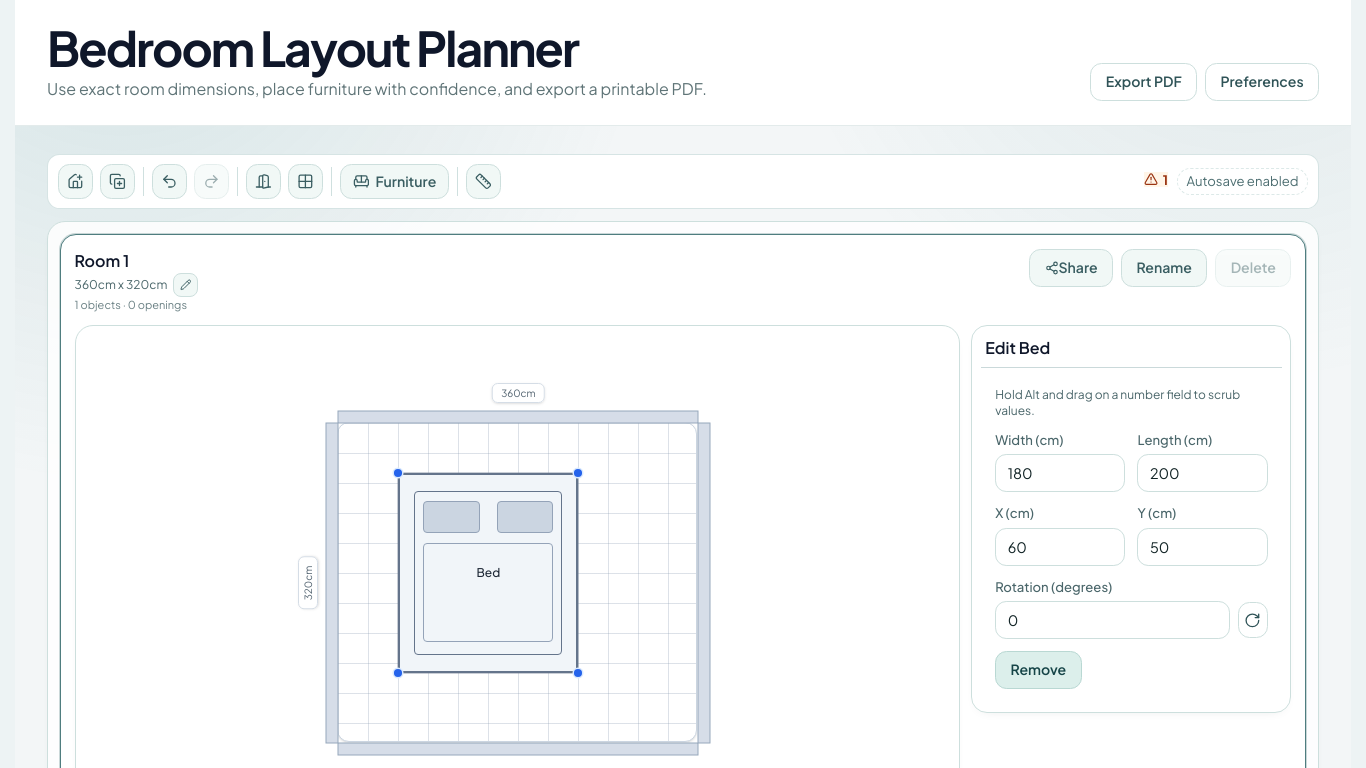
it: selection and rotate interaction › keeps edit panel open after rotating selected object
The image size is (1366, 768).
Check: the heading "Edit Bed" is shown, box [985, 336, 1050, 360]
Click the button named "Rotate 90 degrees" at [1253, 620], box [1238, 603, 1268, 638]
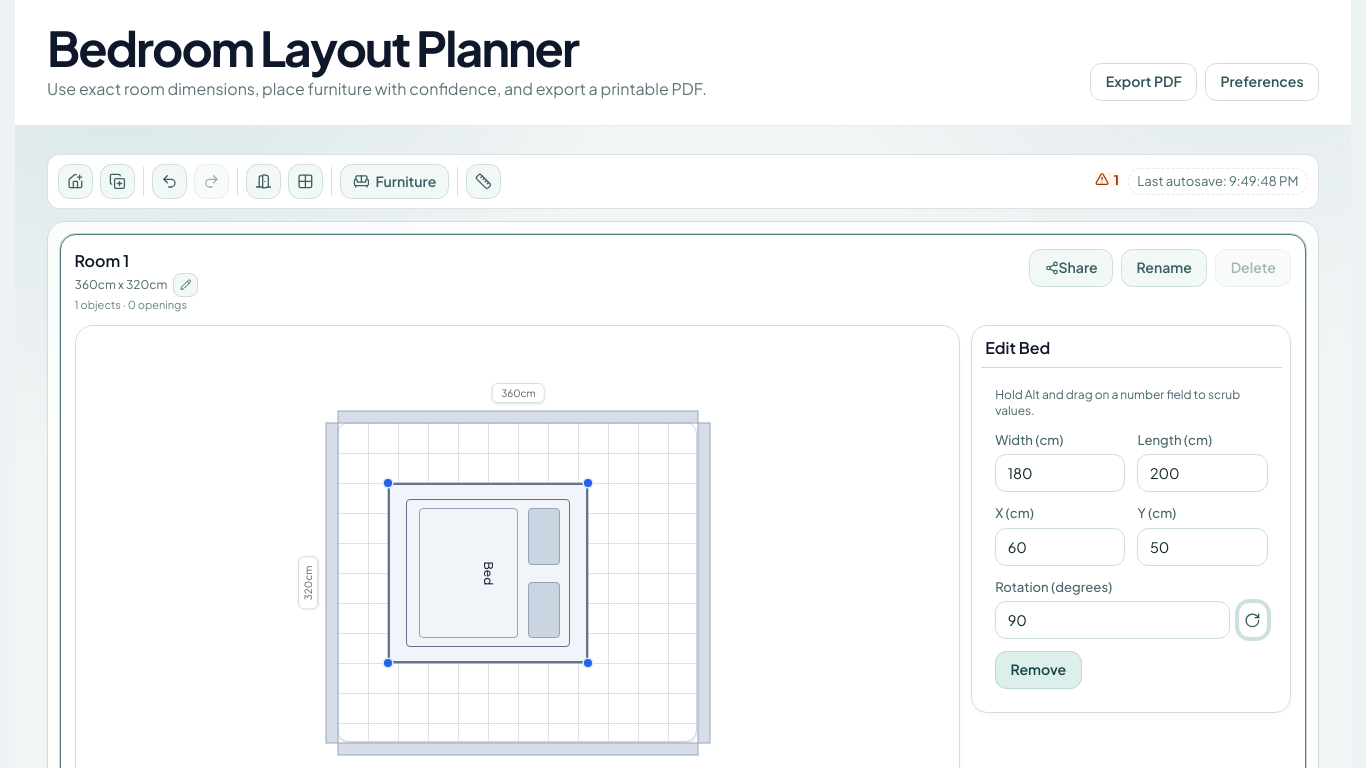
Check: the heading "Edit Bed" is shown, box [985, 336, 1050, 360]
Check: the number field showing "90" below "Rotation (degrees)" is shown, box [995, 601, 1230, 639]
